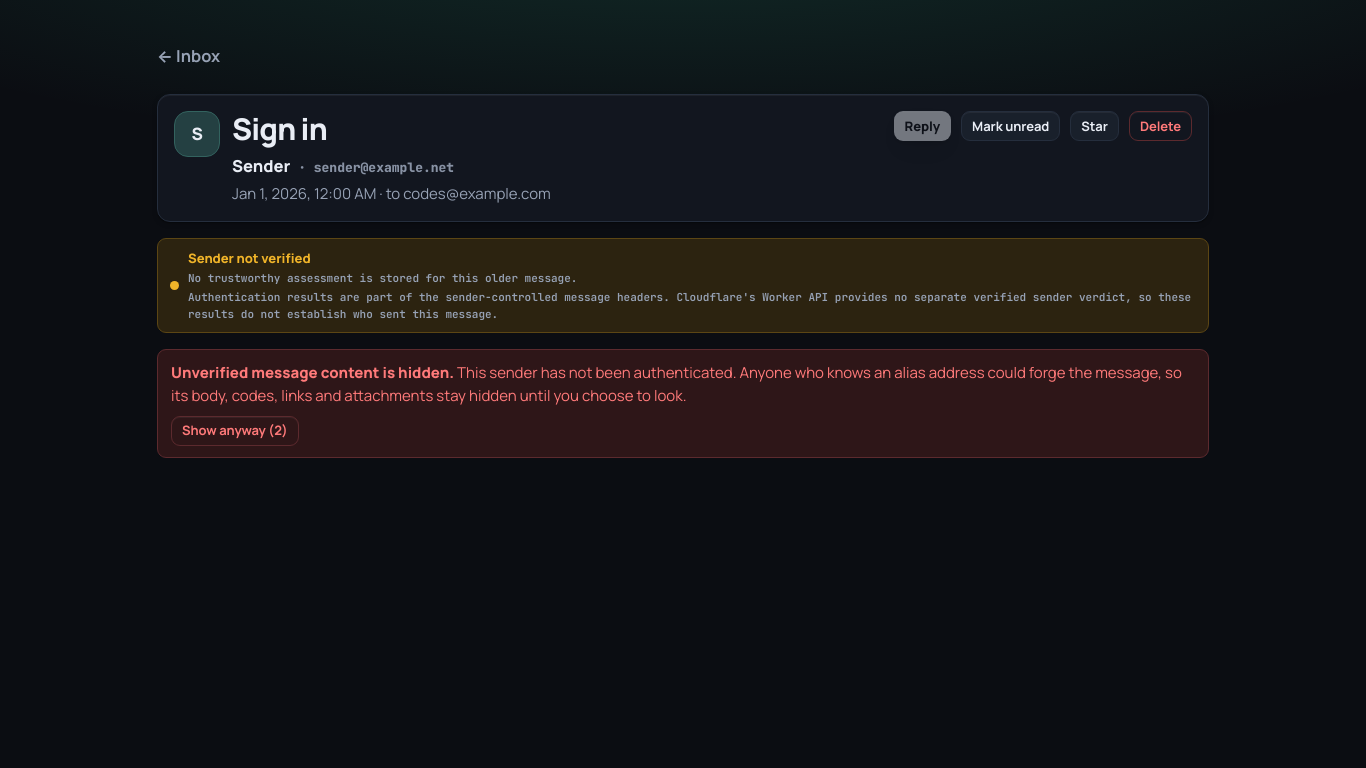
it: MessageDetail sender-auth content gating › hides the body, extracted secrets and links until explicit reveal
Expected: the text "123456" is not shown
Expected: the text "Verify" is not shown
Click the button "Show anyway (2)" at x=235, y=431, box [171,416,299,446]
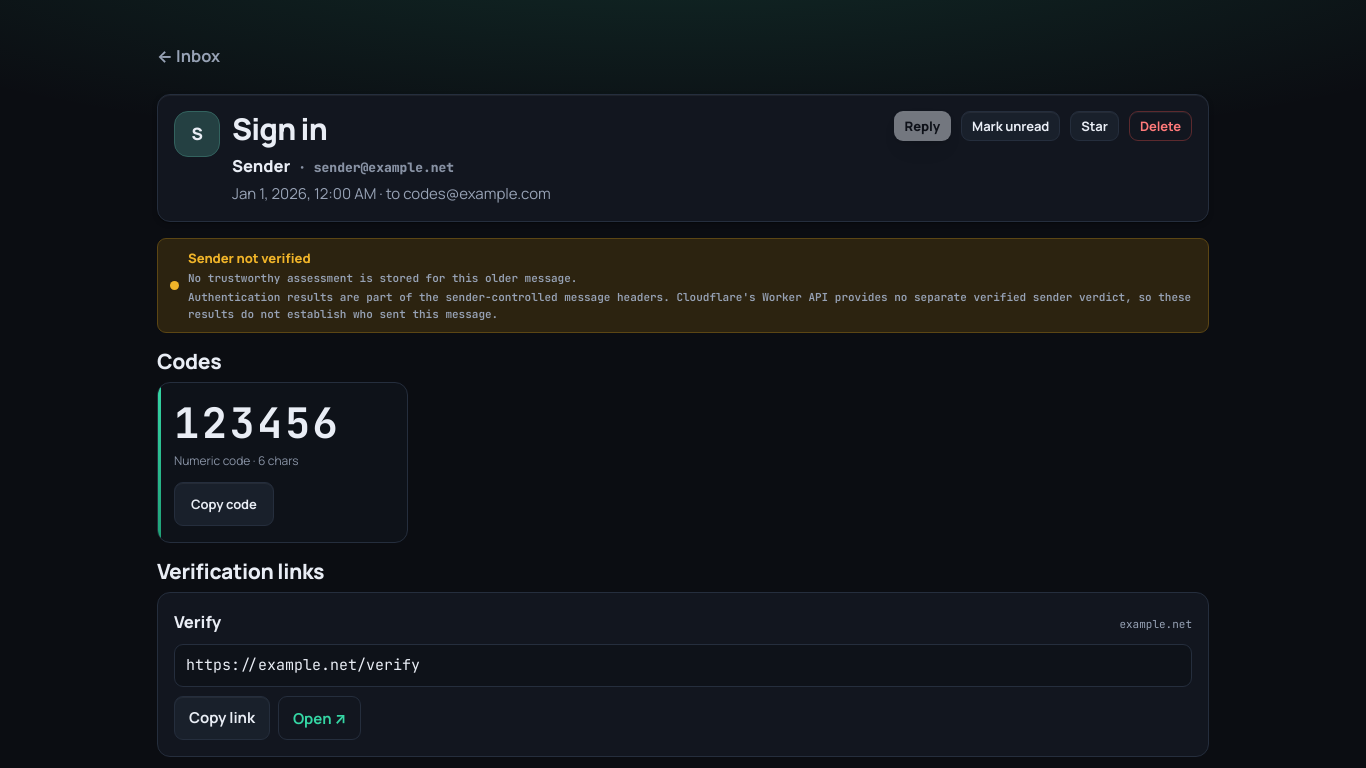
Expected: the text "Verify" is shown, [174,609,221,635]
